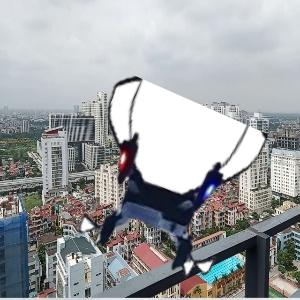drone: (77, 98, 255, 276)
